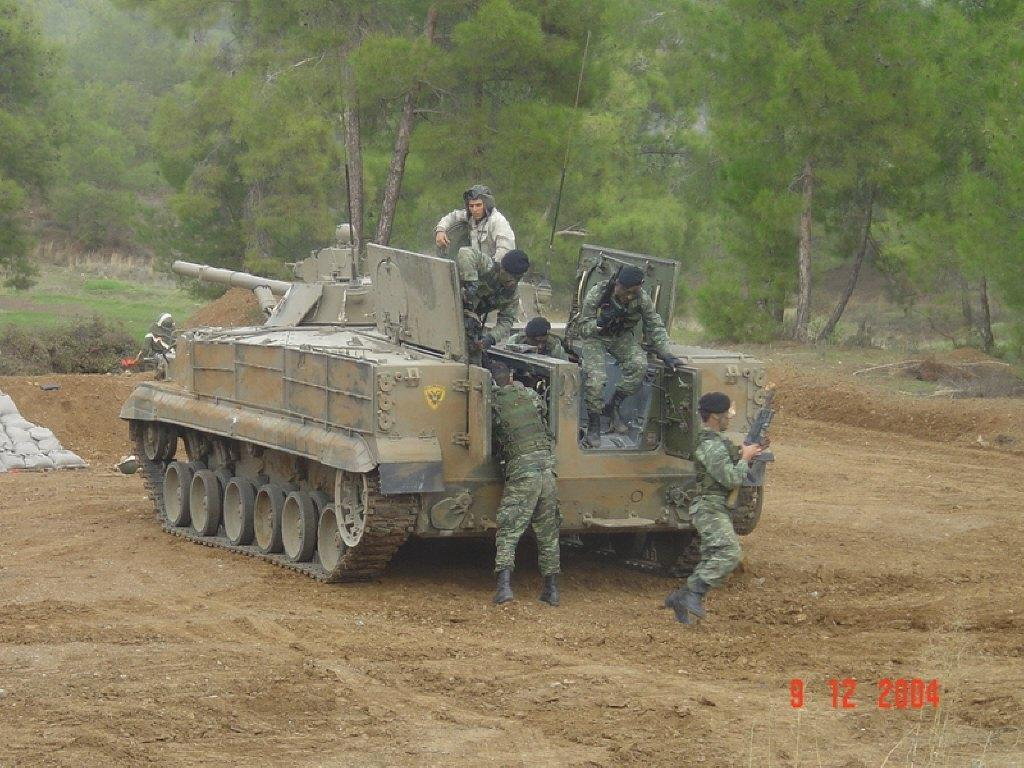MIL_IFV: (116, 185, 783, 588)
